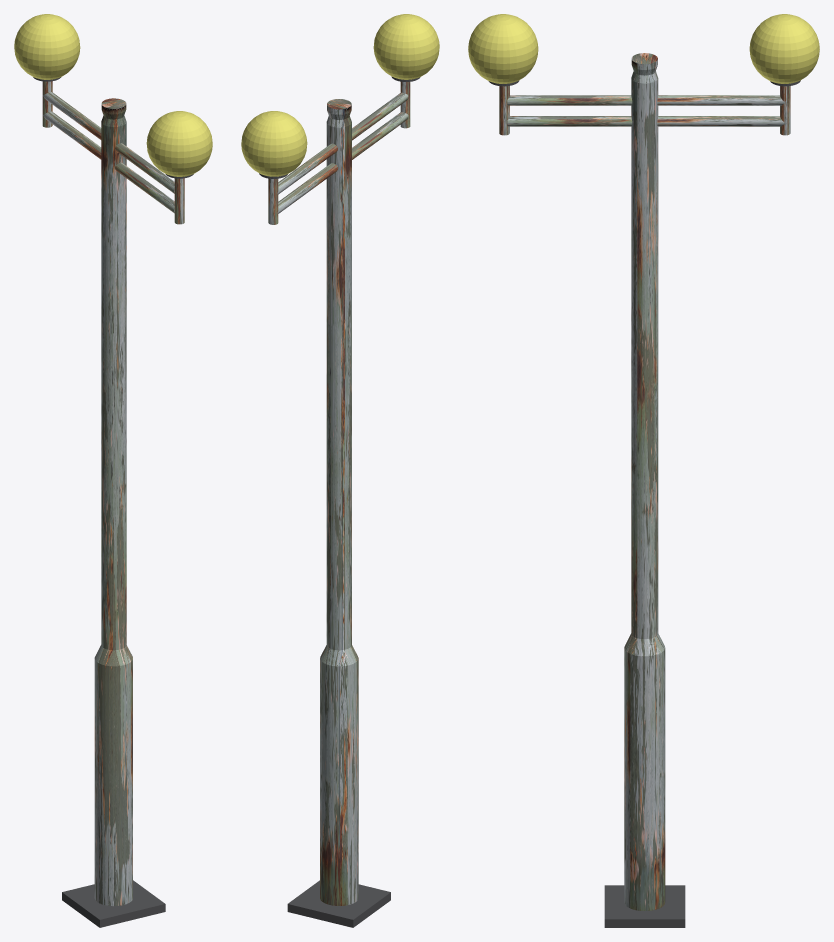
Rendered from lantaarn.gltf.
3 views of the same model, side by side, from view 1: azimuth 30°, elevation 25°; view 2: azimuth 150°, elevation 25°; view 3: azimuth 270°, elevation 25° (orthographic). The views are drawn at different scales.
Parts seen in each view (by area): view 1: Cylinder, Sphere.001, Sphere, Cube, Cylinder.002, Cylinder.001, Cylinder.003; view 2: Cylinder, Sphere.001, Sphere, Cube, Cylinder.002, Cylinder.001, Cylinder.004; view 3: Cylinder, Sphere.001, Sphere, Cylinder.002, Cylinder.001, Cube.
Part boxes in pixels (x1=…): Cylinder: x1=94, y1=98, x2=132, y2=906; Sphere.001: x1=14, y1=14, x2=80, y2=79; Sphere: x1=146, y1=111, x2=212, y2=176; Cube: x1=62, y1=880, x2=165, y2=927; Cylinder.002: x1=42, y1=92, x2=174, y2=193; Cylinder.001: x1=42, y1=111, x2=174, y2=213; Cylinder.003: x1=174, y1=178, x2=184, y2=224; Cylinder: x1=320, y1=99, x2=358, y2=905; Sphere.001: x1=241, y1=111, x2=307, y2=176; Sphere: x1=373, y1=14, x2=439, y2=79; Cube: x1=287, y1=880, x2=390, y2=927; Cylinder.002: x1=277, y1=92, x2=408, y2=194; Cylinder.001: x1=277, y1=112, x2=408, y2=213; Cylinder.004: x1=268, y1=178, x2=278, y2=224; Cylinder: x1=624, y1=53, x2=665, y2=910; Sphere.001: x1=749, y1=14, x2=819, y2=83; Sphere: x1=468, y1=14, x2=538, y2=83; Cylinder.002: x1=507, y1=95, x2=786, y2=105; Cylinder.001: x1=507, y1=116, x2=786, y2=126; Cube: x1=604, y1=885, x2=685, y2=927.
Size of the model in its own units: 0.2532 by 3.1 by 1.11.
3 materials, 1 textured.
